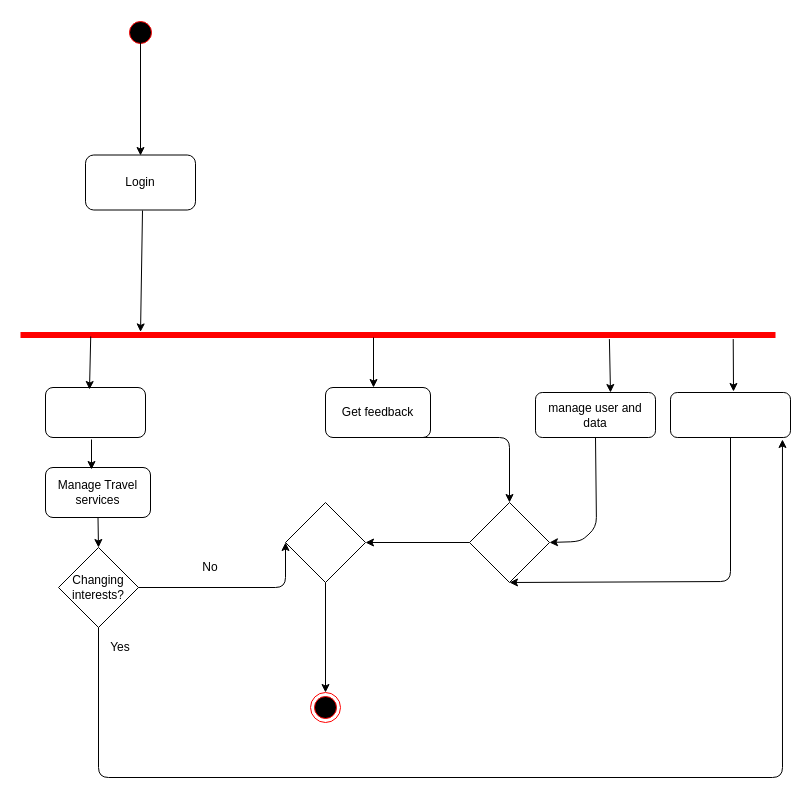
Some shapes in this 808 by 803 pixel diagram are drawn without their labels. Here are the shapes that lost their labels. From the top down, the centre of each, then its label:
At point 95,412: "manage travel".
At point 730,415: "Add inerests".
